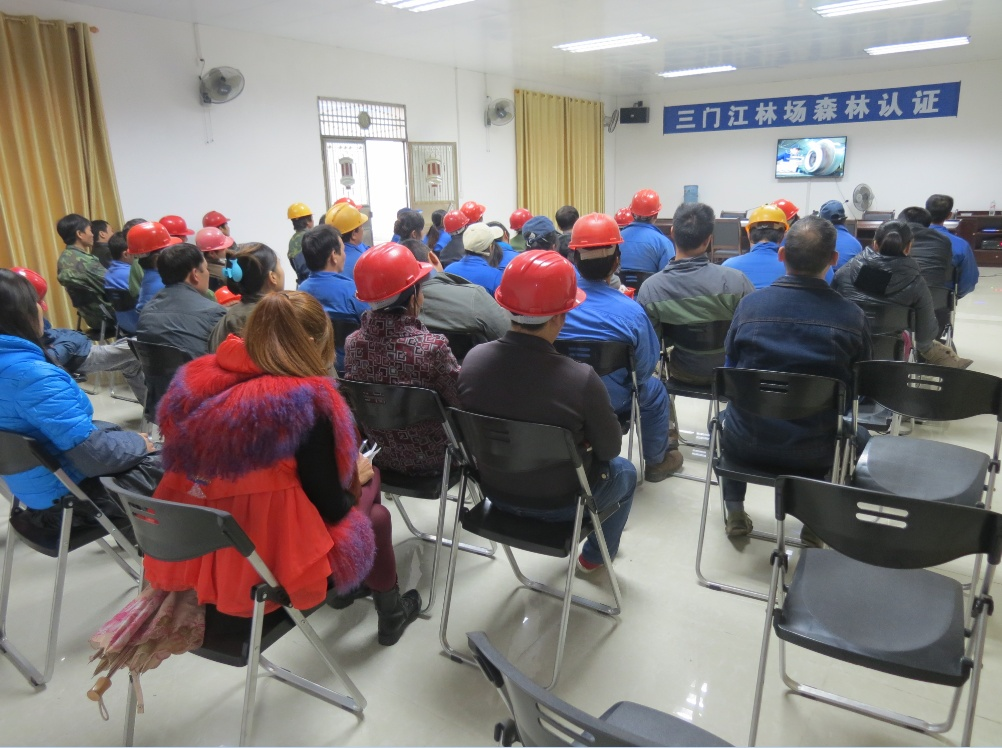none: (246, 288, 337, 380), (777, 213, 836, 284), (222, 239, 286, 301), (666, 197, 716, 259), (154, 242, 212, 290), (300, 224, 348, 276), (871, 218, 913, 263), (52, 209, 93, 250), (921, 192, 957, 229), (392, 207, 426, 245), (86, 213, 116, 248), (549, 201, 579, 230)
red: (495, 245, 575, 347), (355, 241, 421, 323), (568, 213, 622, 286), (124, 220, 171, 270), (195, 226, 230, 267), (630, 185, 661, 230), (438, 207, 468, 241), (202, 209, 230, 240), (507, 204, 532, 234), (462, 199, 486, 226)
yellow: (740, 199, 790, 253), (323, 200, 367, 246), (284, 198, 315, 231)
